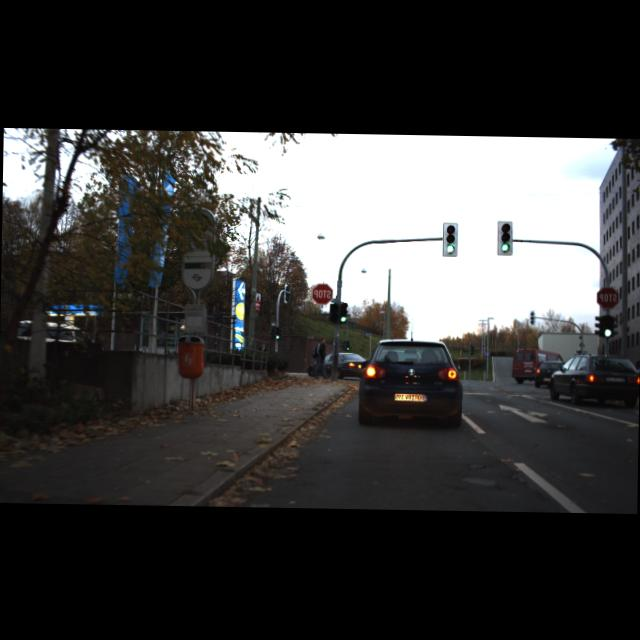other: (596, 285, 618, 307), (312, 282, 333, 304)
